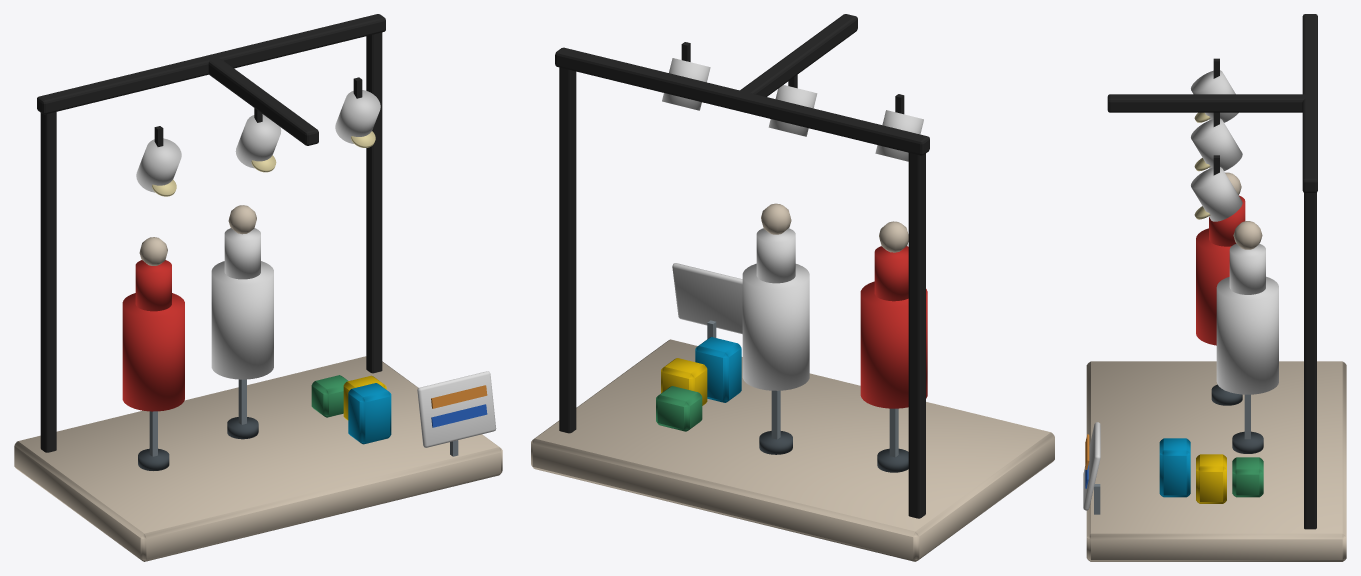
File: m_storelight.glb
The picture shows the model from 3 angles, left to right: view 1: azimuth 30°, elevation 25°; view 2: azimuth 150°, elevation 25°; view 3: azimuth 270°, elevation 25°; orthographic projection. The views are drawn at different scales.
Parts seen in each view (by area): view 1: m_storelight; view 2: m_storelight; view 3: m_storelight.
Boxes of the visible parts, box(x1,y1,x2,y2) form: m_storelight: box(14, 14, 502, 561); m_storelight: box(531, 14, 1054, 561); m_storelight: box(1083, 14, 1346, 561).
Bounding box in the file's own units: 0.8 × 0.805 × 0.5067.
